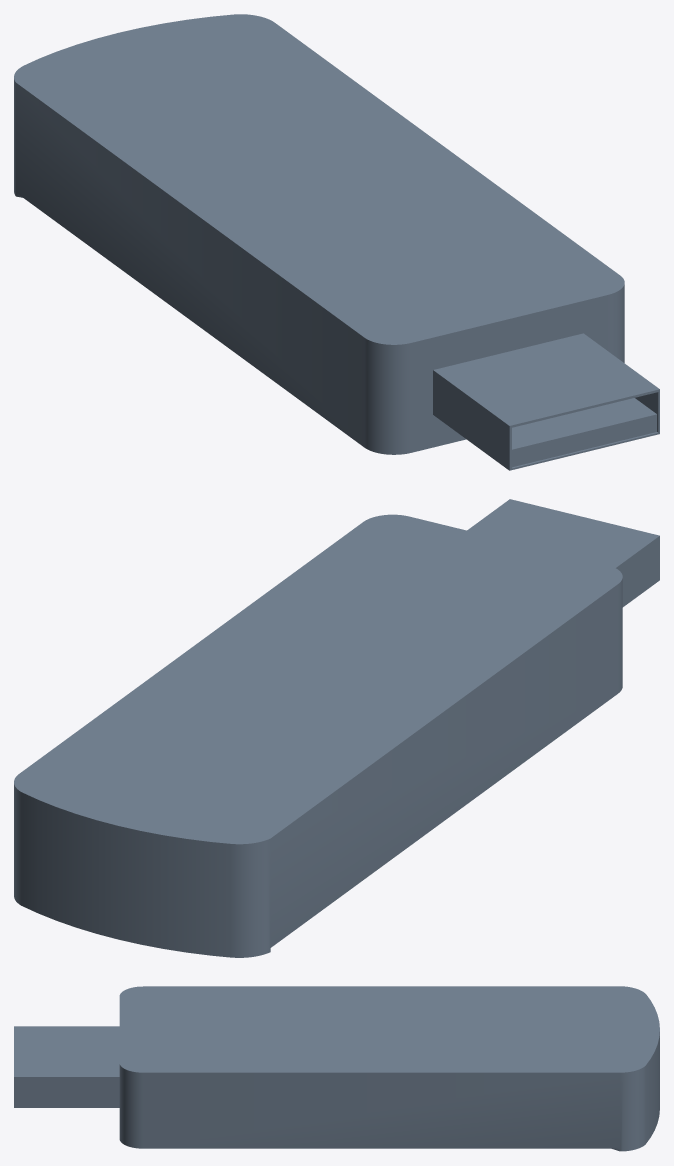
Rendered from original-2_2.obj.
The picture shows the model from 3 angles, top to bottom: view 1: azimuth 30°, elevation 25°; view 2: azimuth 150°, elevation 25°; view 3: azimuth 270°, elevation 25°; orthographic projection. The views are drawn at different scales.
Bounding box in the file's own units: 0.4274 × 0.1823 × 1.35.
